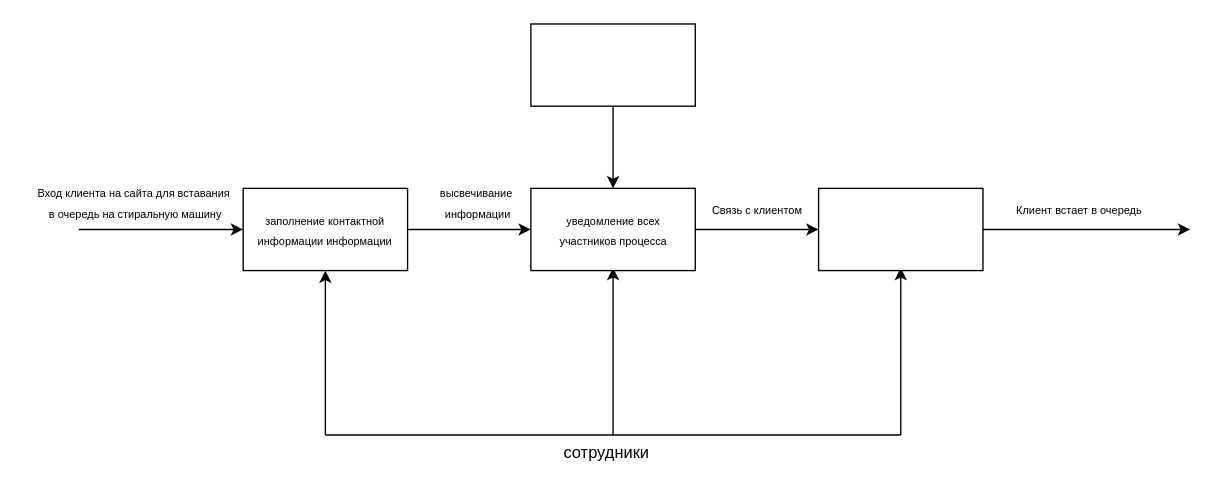
This 1225x497 diagram has some shape labels left out. Here are the shapes that lost their labels. From the top down, the box of each, then its label:
(530, 23, 695, 106): сообщение клиенту и сотруднику прачечной
(817, 187, 983, 271): Уточнение стиральной машины
